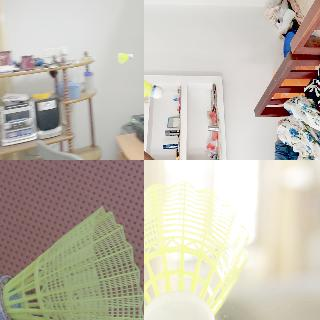shuttlecock: (0, 206, 143, 319), (144, 180, 249, 319), (144, 70, 165, 102), (118, 52, 132, 64)
